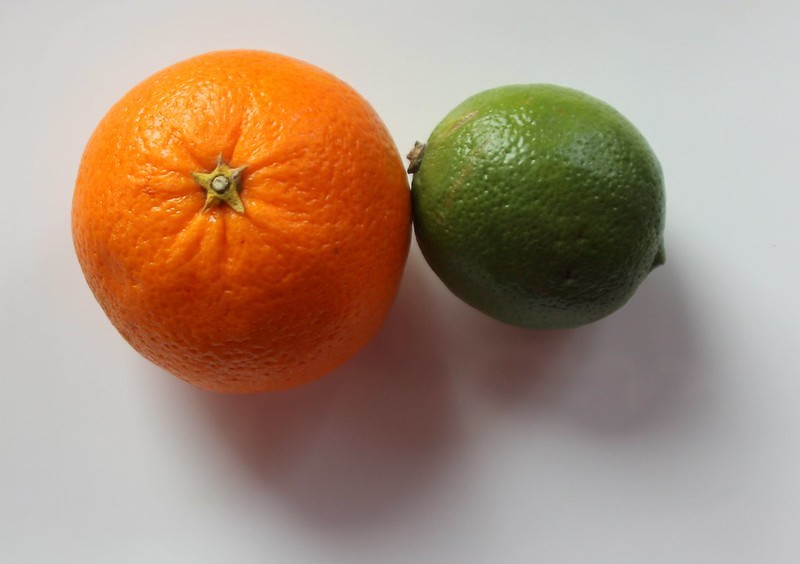orange: (68, 45, 416, 402)
